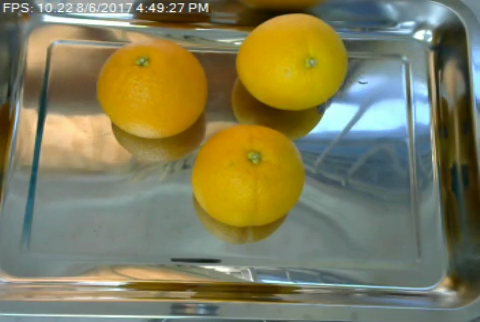Orange: (192, 123, 307, 227), (234, 14, 349, 110), (96, 41, 207, 137)
